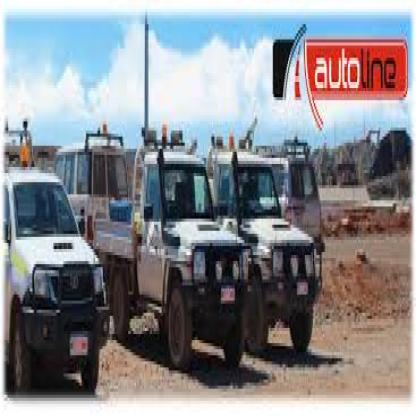light_vehicle: (88, 118, 249, 370), (210, 136, 323, 380), (0, 134, 109, 370)
